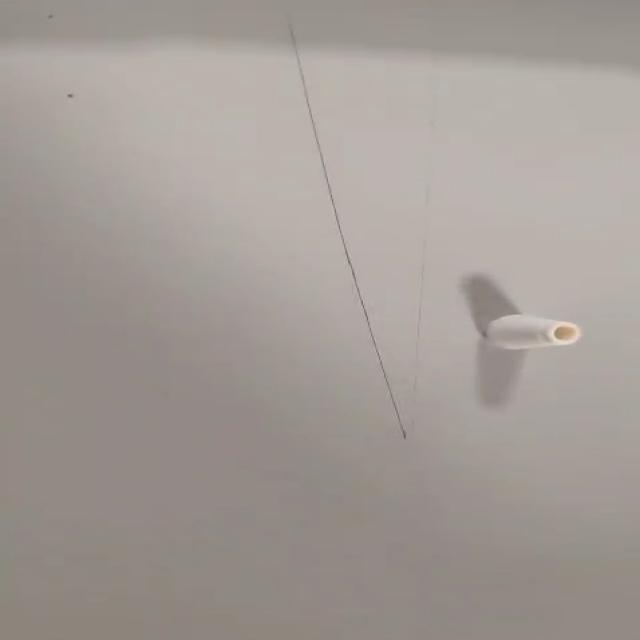Z1x1x1: (482, 315, 585, 351)
